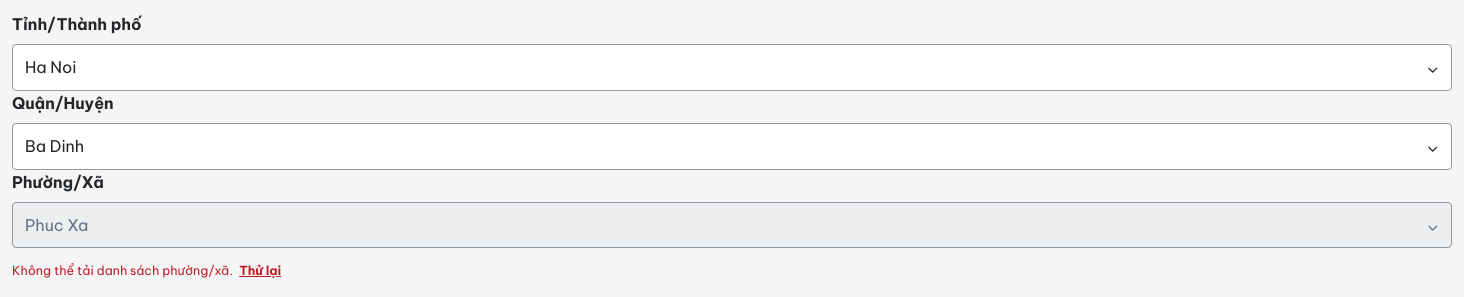
Test case: LegacyAdministrativeDivisionFields › shows a retry action without losing a stored ward when the lazy chunk fails
Check: the text "Không thể tải danh sách phường/xã." is shown, box [12, 263, 233, 278]
Check: the element named "ward" holds "Phuc Xa", box [12, 170, 1452, 281]
Click the button "Thử lại". click: (260, 271)
box: [239, 262, 281, 281]
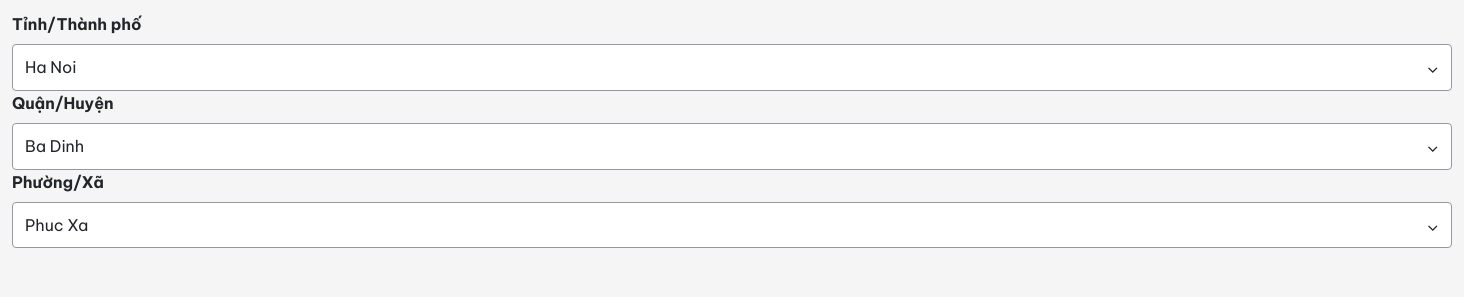
Check: the element named "ward" holds "Phuc Xa", box [12, 170, 1452, 248]
Check: the button named "Phường/Xã" is enabled, box [12, 202, 1452, 248]
